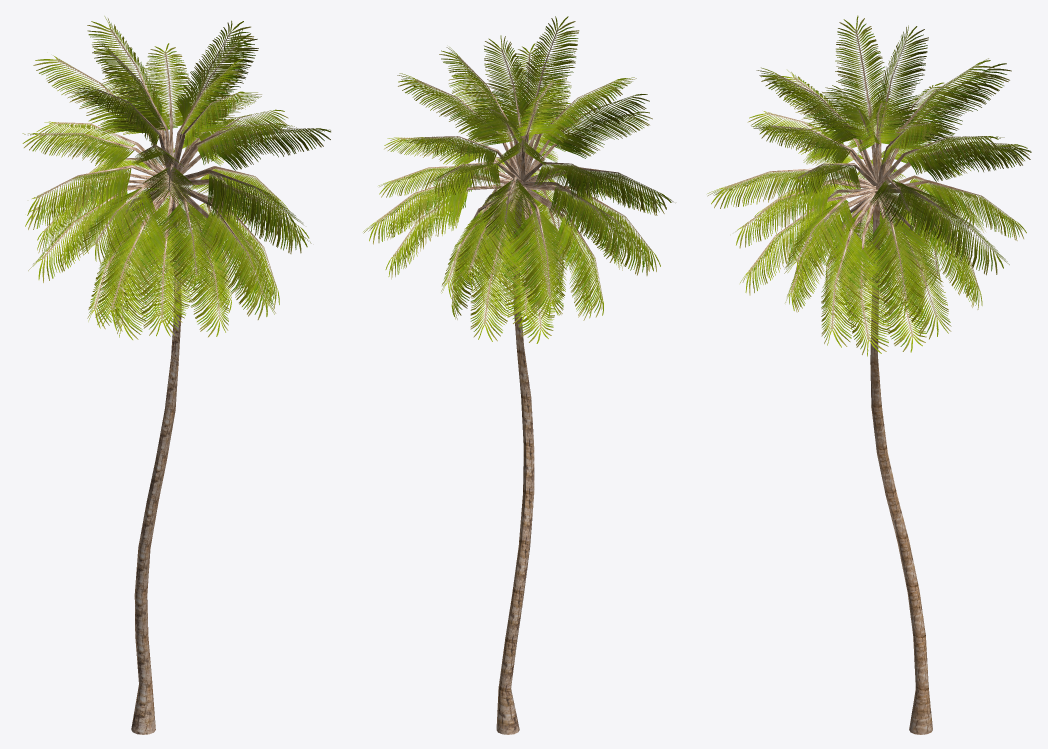
The model's file is palm.glb.
The picture shows the model from 3 angles, left to right: view 1: azimuth 30°, elevation 25°; view 2: azimuth 150°, elevation 25°; view 3: azimuth 270°, elevation 25°; orthographic projection. The views are drawn at different scales.
Visible parts, largest first — view 1: Tree_1_date palm leaf_0, Tree_0_palm02_0; view 2: Tree_1_date palm leaf_0, Tree_0_palm02_0; view 3: Tree_1_date palm leaf_0, Tree_0_palm02_0.
Part boxes in pixels (<box>): Tree_1_date palm leaf_0: <box>22,16,330,339</box>; Tree_0_palm02_0: <box>77,68,261,734</box>; Tree_1_date palm leaf_0: <box>363,16,673,343</box>; Tree_0_palm02_0: <box>416,71,620,734</box>; Tree_1_date palm leaf_0: <box>707,15,1031,356</box>; Tree_0_palm02_0: <box>772,70,978,734</box>.
Size of the model in its own units: 5.14 by 12 by 5.21.
Materials: 2 (2 with a texture image).
